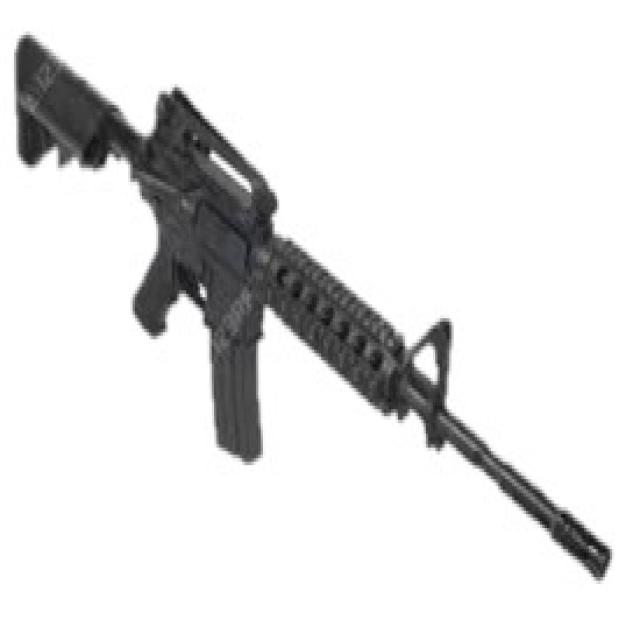rifle: (4, 17, 622, 597)
